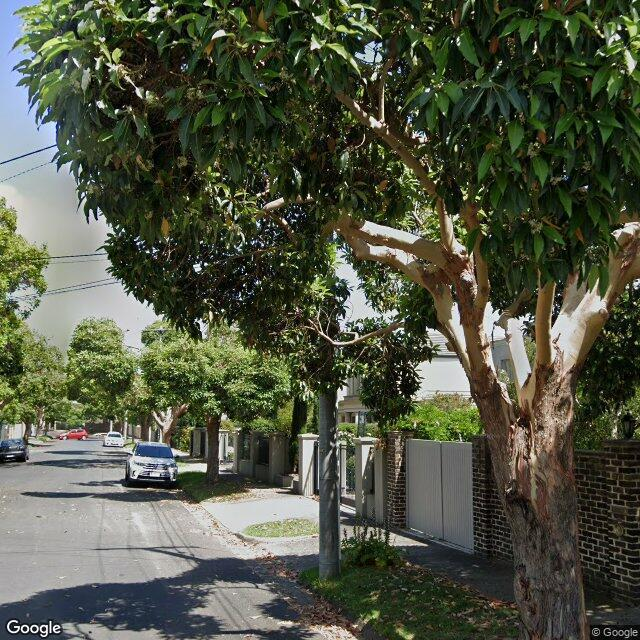timber-pole: (318, 384, 340, 582)
